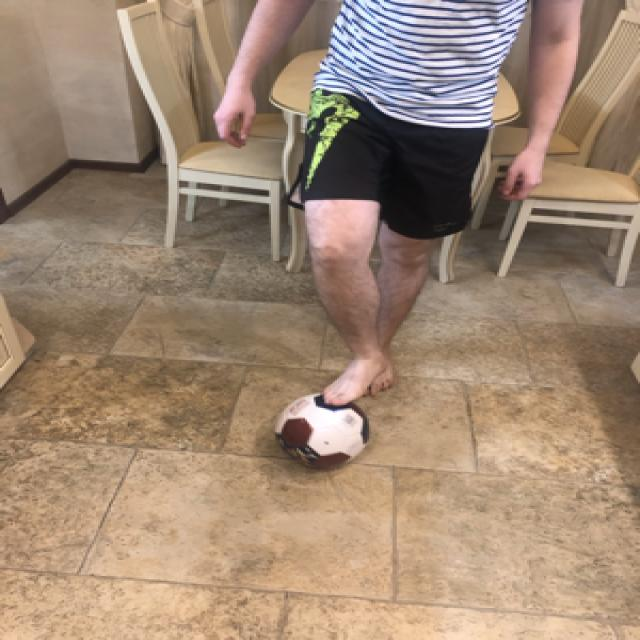soccer_ball: (269, 389, 369, 469)
